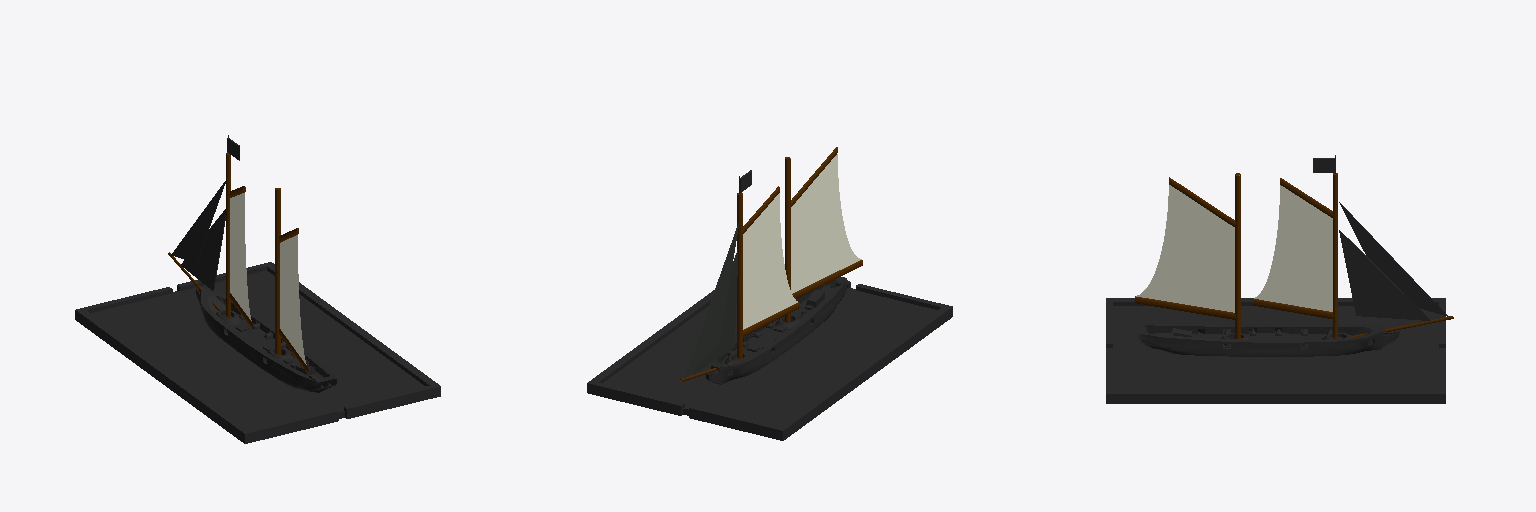
3 views of the same model, side by side, from view 1: azimuth 30°, elevation 25°; view 2: azimuth 150°, elevation 25°; view 3: azimuth 270°, elevation 25° (orthographic).
Parts seen in each view (by area): view 1: SOG_baltimore_schooner.obj; view 2: SOG_baltimore_schooner.obj; view 3: SOG_baltimore_schooner.obj.
Boxes of the visible parts, <box> form: SOG_baltimore_schooner.obj: <box>75,135,440,443</box>; SOG_baltimore_schooner.obj: <box>587,147,952,440</box>; SOG_baltimore_schooner.obj: <box>1106,155,1453,403</box>.
Bounding box in the file's own units: 4.3 × 4.21 × 6.61.
Materials: 5 (1 with a texture image).